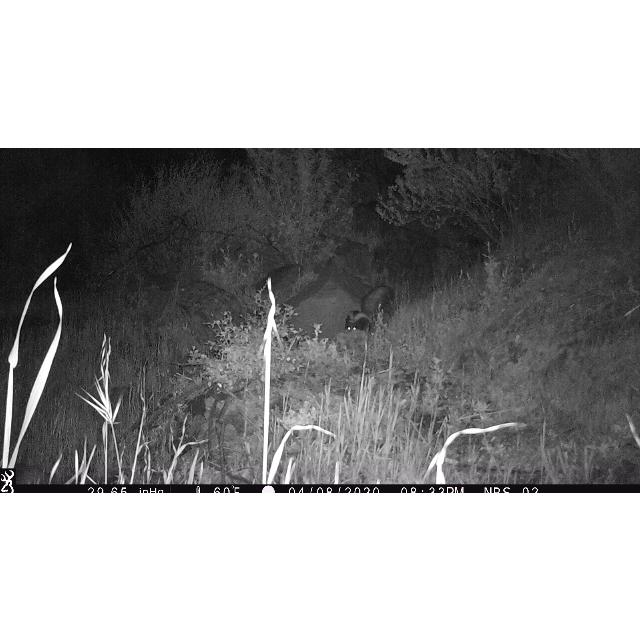animals: (344, 284, 396, 332)
